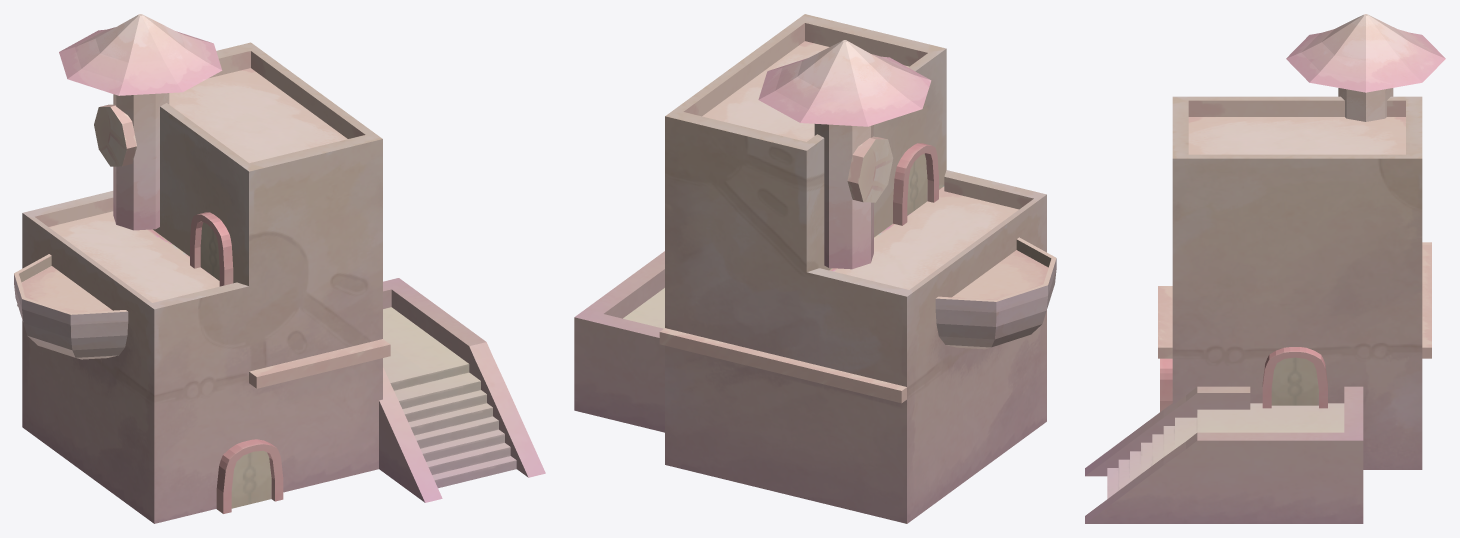
File: building_c.fbx
3 renders of one model, left to right at view 1: azimuth 30°, elevation 25°; view 2: azimuth 150°, elevation 25°; view 3: azimuth 270°, elevation 25°, orthographic. The views are drawn at different scales.
Parts seen in each view (by area): view 1: Cylinder.003; view 2: Cylinder.003; view 3: Cylinder.003.
Part boxes in pixels (x1,y1,x2,y2): Cylinder.003: (14, 14, 545, 523); Cylinder.003: (574, 14, 1056, 523); Cylinder.003: (1085, 14, 1445, 523).
Size of the model in its own units: 2008 by 1923 by 1610.
